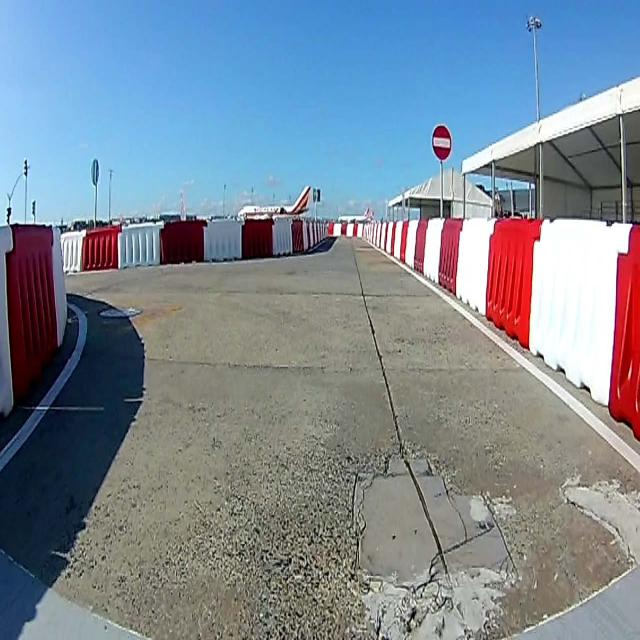girisyok: (433, 125, 453, 162)
